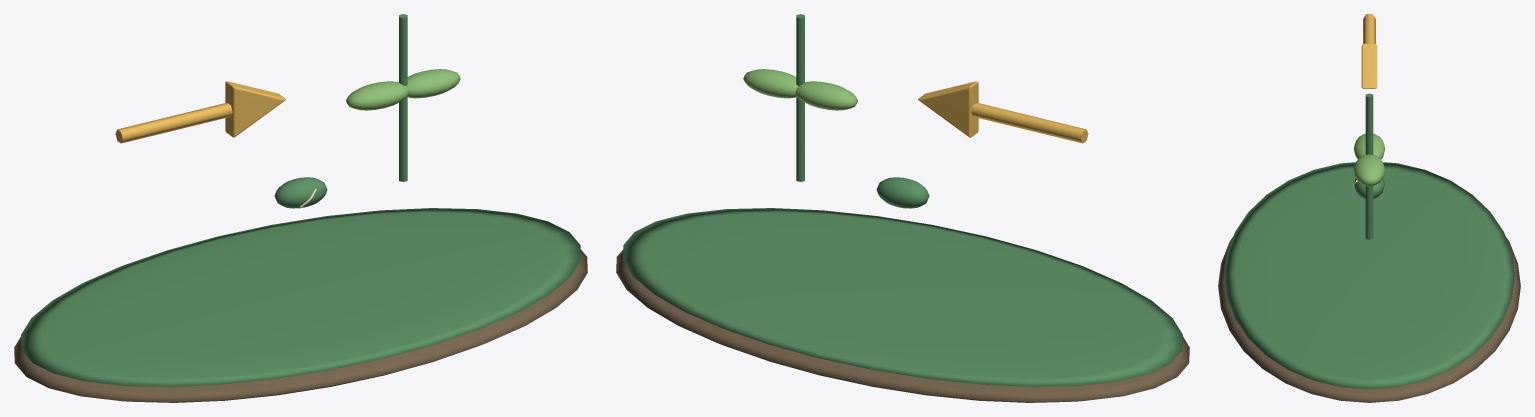
Rendered from complete-second-send-growth-happen.glb.
The picture shows the model from 3 angles, left to right: view 1: azimuth 30°, elevation 25°; view 2: azimuth 150°, elevation 25°; view 3: azimuth 270°, elevation 25°; orthographic projection. The views are drawn at different scales.
Visible parts, largest first — view 1: complete-second-send-growth-happen_surface_01, complete-second-send-growth-happen_surface_00, complete-second-send-growth-happen_surface_02, complete-second-send-growth-happen_surface_03; view 2: complete-second-send-growth-happen_surface_01, complete-second-send-growth-happen_surface_00, complete-second-send-growth-happen_surface_02, complete-second-send-growth-happen_surface_03; view 3: complete-second-send-growth-happen_surface_01, complete-second-send-growth-happen_surface_00, complete-second-send-growth-happen_surface_03, complete-second-send-growth-happen_surface_02.
Part boxes in pixels (box(x1,y1,x2,y2)): complete-second-send-growth-happen_surface_01: box(21, 14, 580, 386); complete-second-send-growth-happen_surface_00: box(14, 249, 587, 402); complete-second-send-growth-happen_surface_02: box(115, 81, 285, 143); complete-second-send-growth-happen_surface_03: box(346, 69, 460, 110); complete-second-send-growth-happen_surface_01: box(623, 14, 1182, 386); complete-second-send-growth-happen_surface_00: box(616, 249, 1189, 402); complete-second-send-growth-happen_surface_02: box(918, 81, 1088, 143); complete-second-send-growth-happen_surface_03: box(743, 69, 857, 110); complete-second-send-growth-happen_surface_01: box(1224, 93, 1514, 389); complete-second-send-growth-happen_surface_00: box(1218, 236, 1520, 402); complete-second-send-growth-happen_surface_03: box(1353, 133, 1385, 186); complete-second-send-growth-happen_surface_02: box(1361, 14, 1377, 88).
Size of the model in its own units: 4.56 by 2.27 by 2.5.
